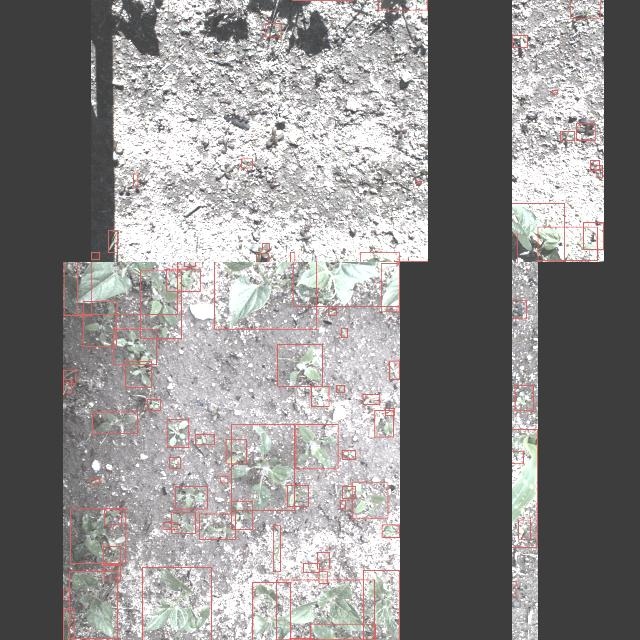crop: (213, 262, 316, 329), (276, 580, 374, 638), (76, 262, 177, 314), (142, 567, 211, 640), (292, 262, 399, 306), (69, 572, 117, 638), (512, 203, 565, 262), (512, 429, 538, 547), (364, 570, 400, 640), (252, 582, 290, 640), (538, 227, 598, 261), (63, 262, 91, 315), (310, 623, 375, 640), (380, 264, 400, 312), (62, 609, 73, 640)
weed: (231, 424, 295, 510), (70, 508, 126, 564), (140, 271, 182, 339), (277, 344, 323, 386), (296, 424, 338, 470), (113, 329, 157, 365), (82, 302, 116, 346), (352, 482, 388, 518), (92, 412, 138, 434), (199, 514, 235, 540), (166, 269, 200, 291), (175, 487, 208, 509), (125, 361, 151, 387), (231, 500, 253, 530), (167, 419, 189, 447), (584, 222, 604, 250), (570, 0, 600, 18), (171, 512, 195, 534), (374, 411, 394, 437), (226, 440, 247, 464), (514, 386, 534, 410), (288, 486, 308, 506), (360, 252, 399, 262), (273, 526, 281, 572), (311, 387, 329, 407), (102, 546, 120, 564), (576, 124, 596, 140), (512, 299, 527, 318), (104, 508, 120, 524), (382, 524, 400, 538), (104, 566, 120, 580), (519, 520, 531, 538), (390, 360, 400, 380), (62, 370, 76, 384), (512, 36, 528, 48), (318, 553, 330, 569), (196, 434, 214, 444), (108, 230, 116, 252), (364, 394, 381, 404), (266, 24, 280, 36), (342, 486, 356, 498), (342, 450, 356, 460), (303, 564, 319, 572), (512, 451, 523, 462), (148, 400, 160, 410), (168, 458, 180, 468), (561, 132, 575, 140), (256, 253, 268, 262), (242, 158, 252, 168), (590, 160, 600, 170), (319, 571, 327, 583), (63, 380, 71, 392), (164, 522, 176, 530), (385, 408, 395, 416), (132, 174, 138, 186), (596, 166, 602, 178), (91, 252, 99, 260), (328, 308, 336, 316), (90, 478, 100, 484), (342, 328, 348, 338), (512, 581, 516, 596), (289, 251, 294, 262), (262, 244, 270, 250), (63, 590, 69, 598), (337, 386, 345, 392), (340, 501, 346, 509), (220, 476, 228, 482), (183, 262, 194, 266), (552, 90, 558, 94), (415, 182, 421, 184)
